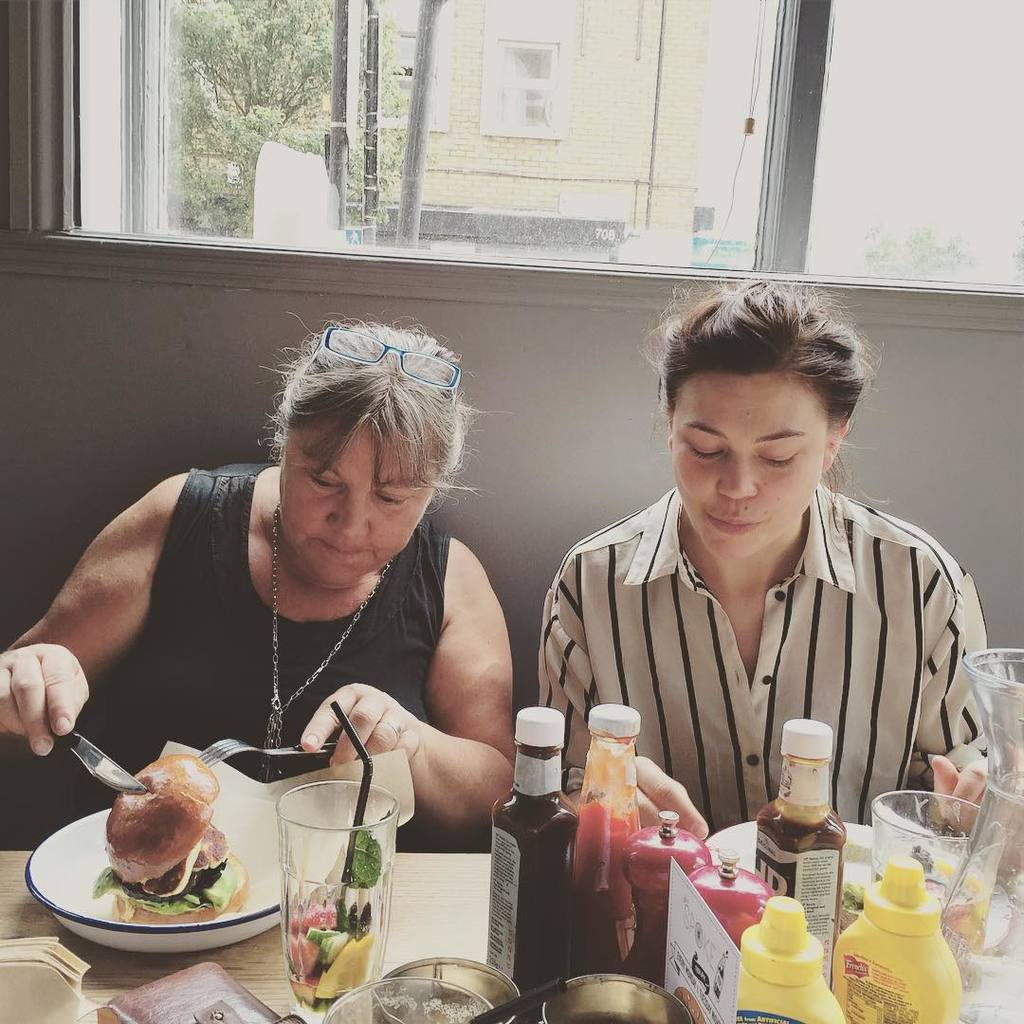Hamburger: (91, 750, 251, 928)
